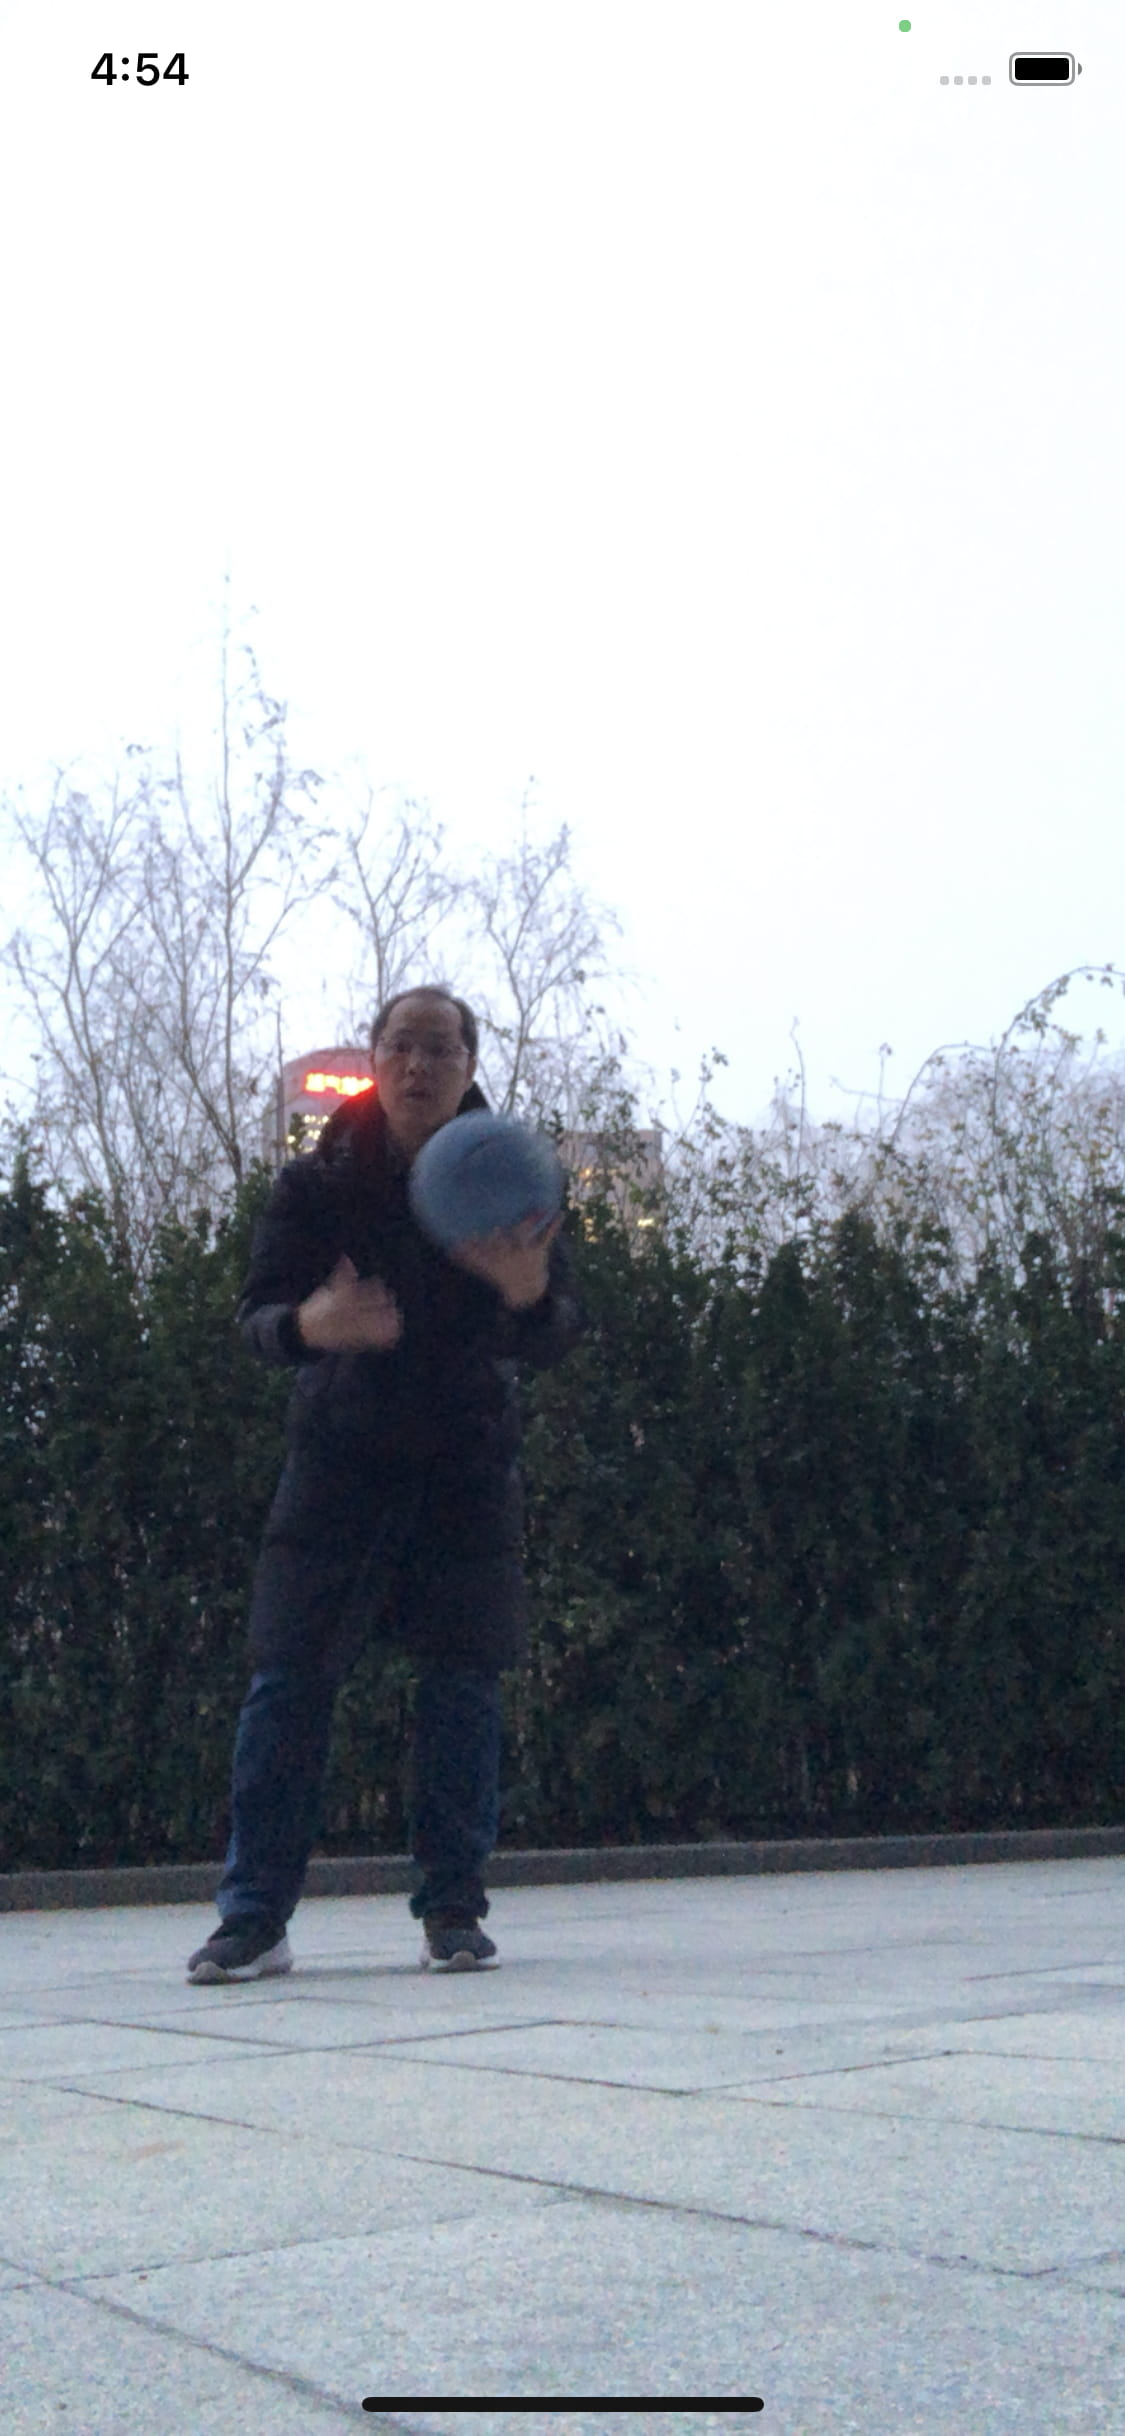ball: (409, 1112, 569, 1257)
